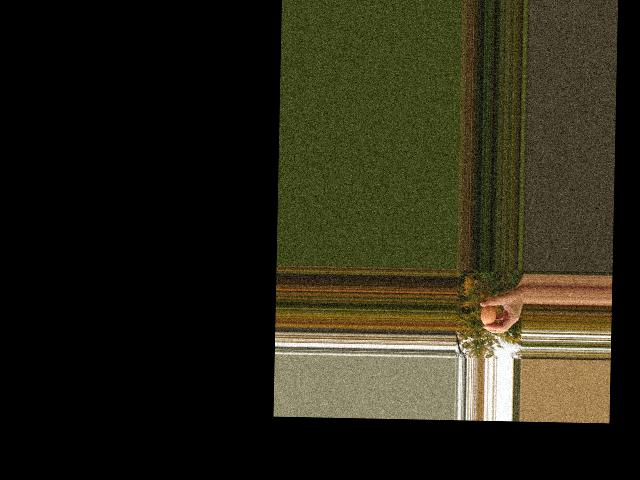egg: (480, 305, 495, 326)
